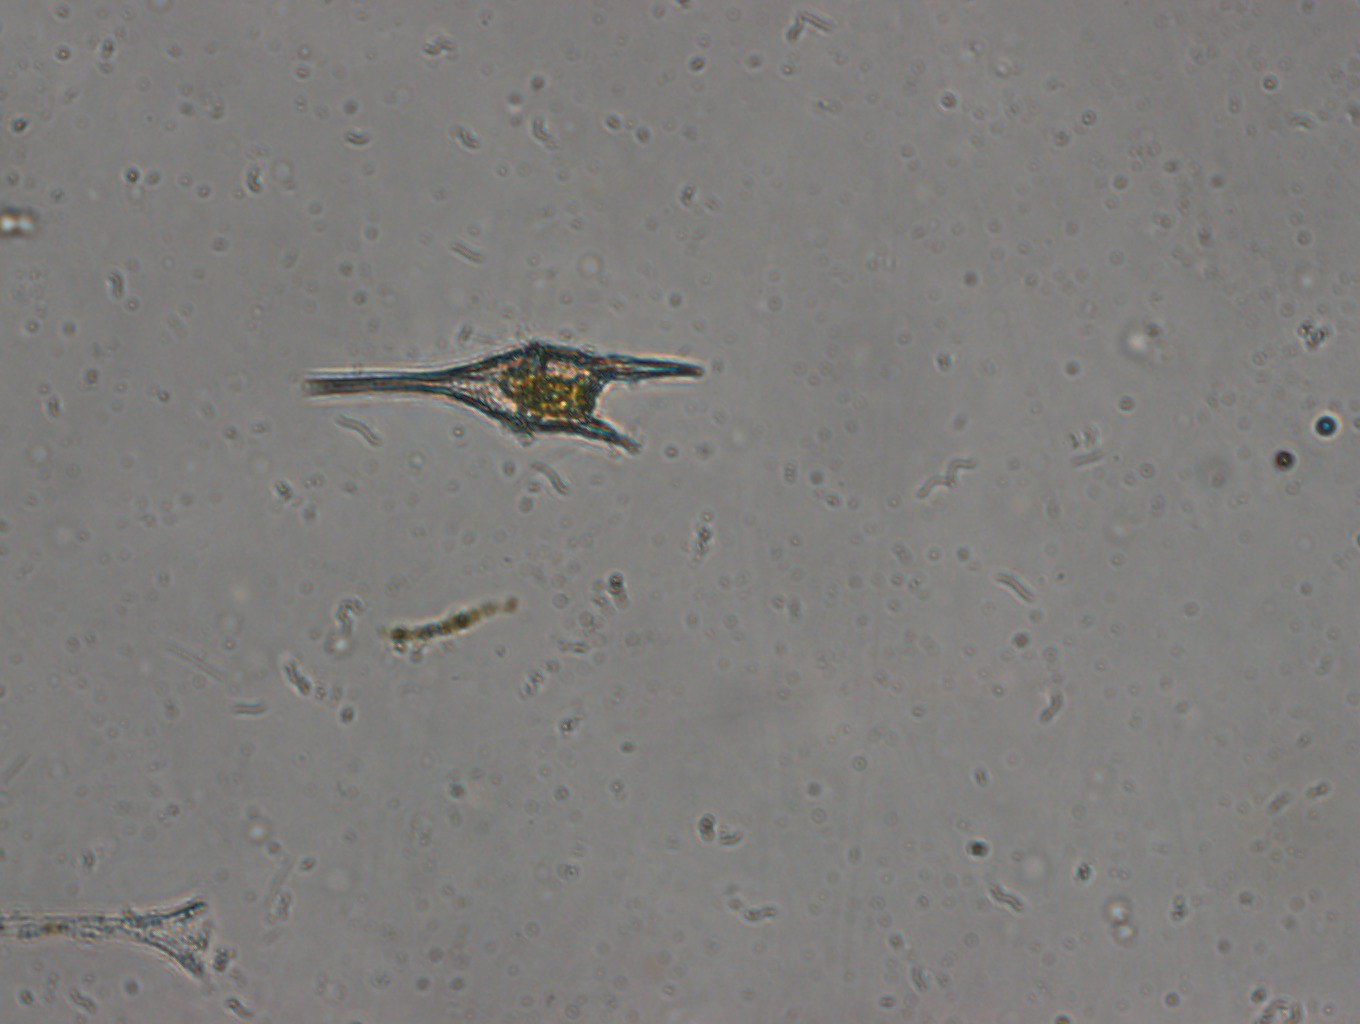ceratium furca: (294, 322, 712, 469)
